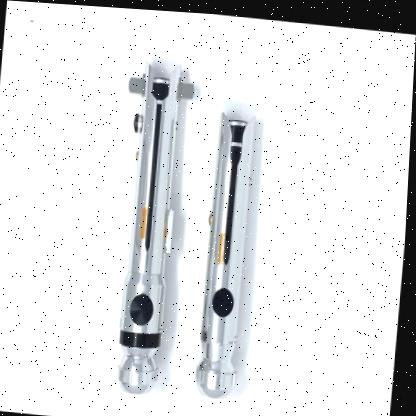lightsaber: (99, 56, 201, 409), (189, 104, 260, 402)
